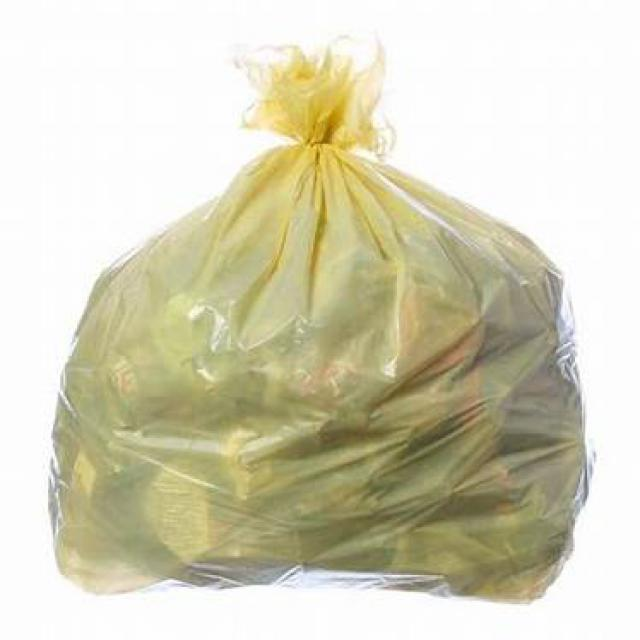waste: (44, 31, 585, 610)
